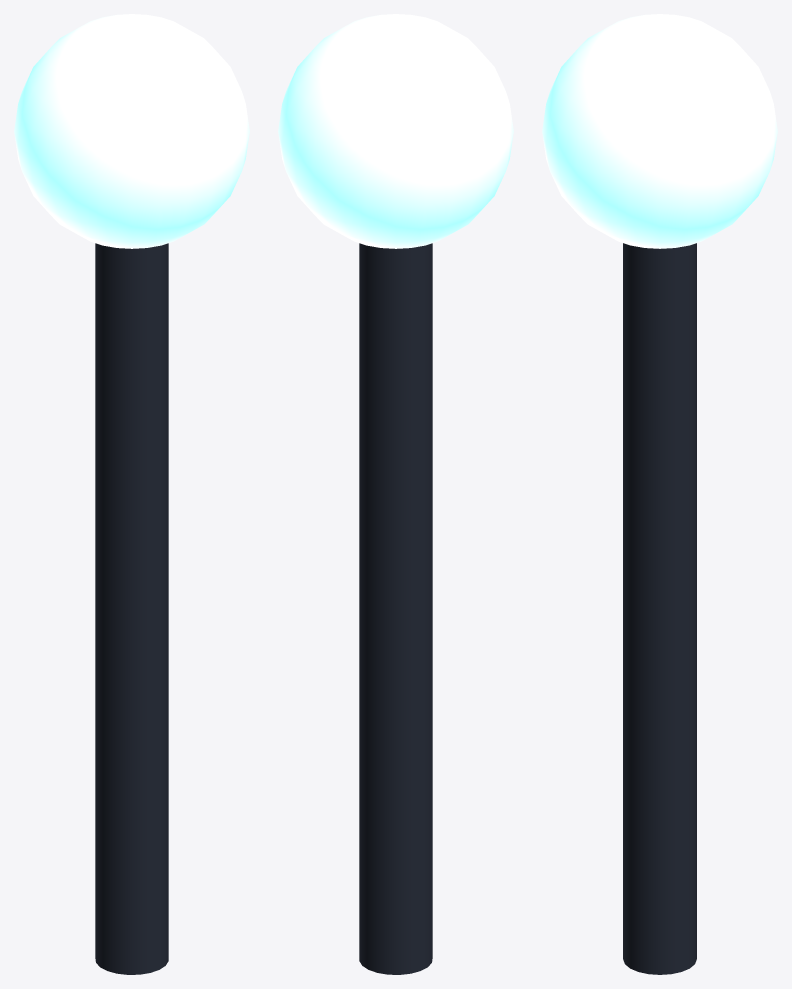
File: top_antenna.glb
3 views of the same model, side by side, from view 1: azimuth 30°, elevation 25°; view 2: azimuth 150°, elevation 25°; view 3: azimuth 270°, elevation 25° (orthographic).
Visible parts, largest first — view 1: Rod, Ball; view 2: Rod, Ball; view 3: Rod, Ball.
Part boxes in pixels (<box>): Rod: <box>95,243,168,974</box>; Ball: <box>14,14,249,248</box>; Rod: <box>359,243,432,974</box>; Ball: <box>278,14,513,248</box>; Rod: <box>623,243,696,974</box>; Ball: <box>542,14,777,248</box>.
Bounding box in the file's own units: 0.16 × 0.7 × 0.16.
